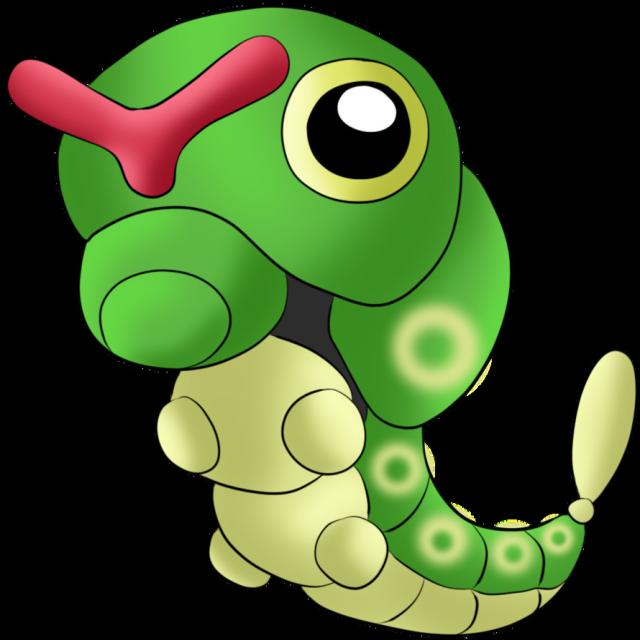Caterpie: (23, 13, 522, 594)
